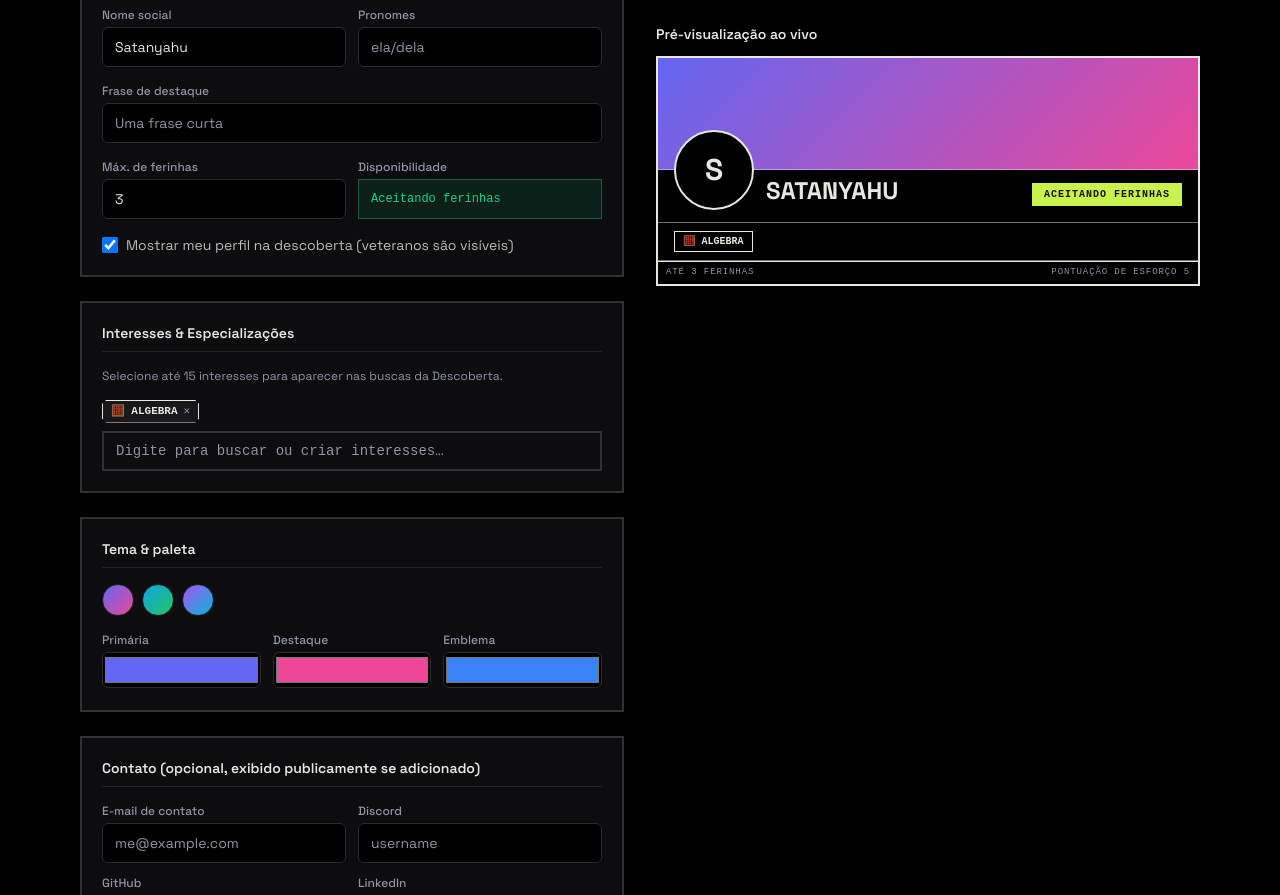
Test case: ProfileStudioPage tag selector › allows typing in the input and shows the create option for unknown tags
(page scrolled)
Expected: the heading "Interesses & Especializações" is shown, [102,323,602,352]
Type "Compiladores" into the field with placeholder "Digite para buscar ou criar interesses…" at (352, 450), box [102,430,602,470]
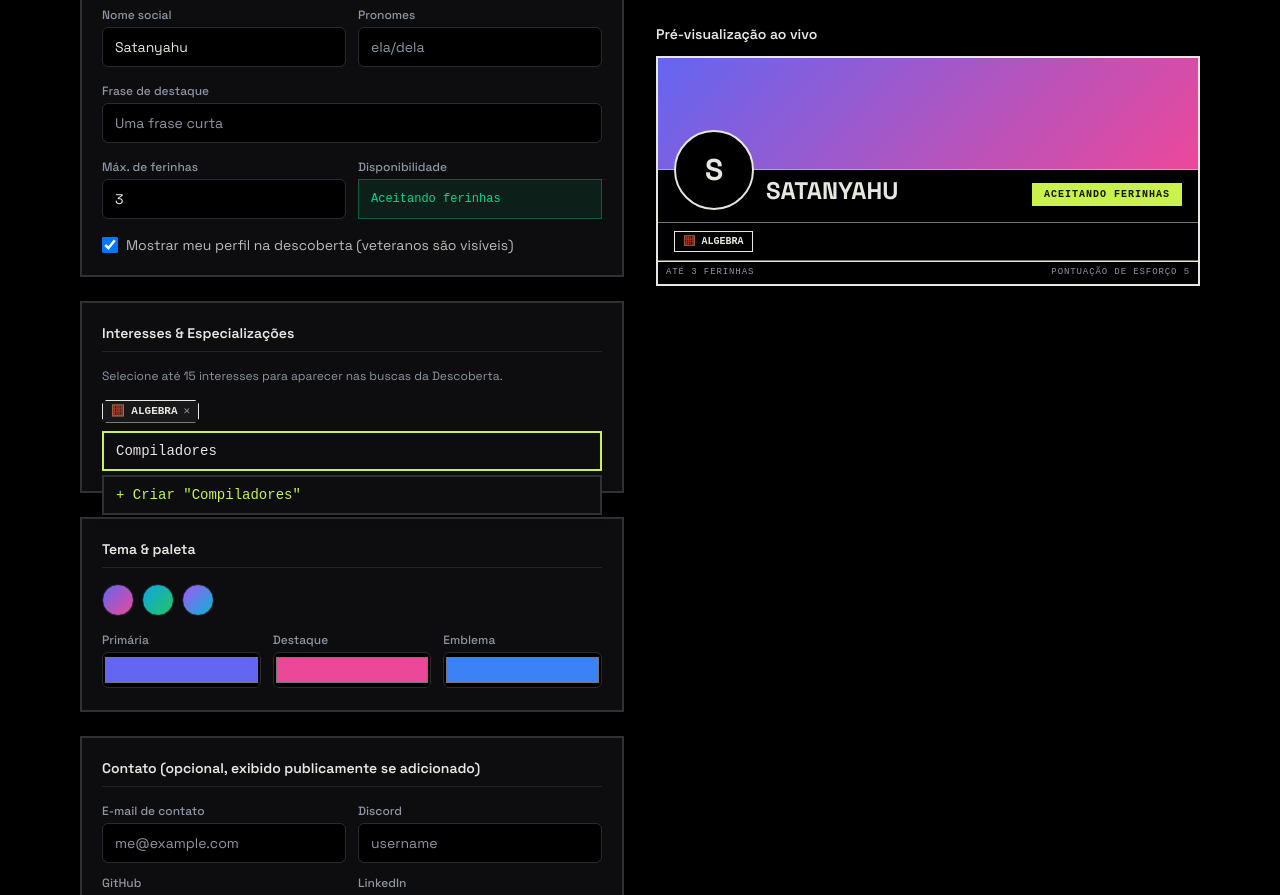
Now the text "+ Criar \"Compiladores\"" is shown, box [116,484,301,504]
